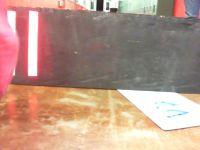switch: (27, 10, 38, 76), (7, 10, 16, 77)
